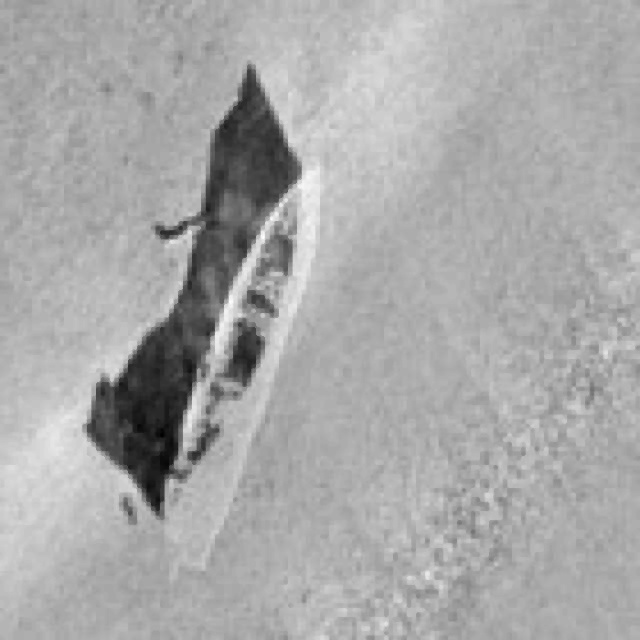Ship: (132, 146, 348, 596)
